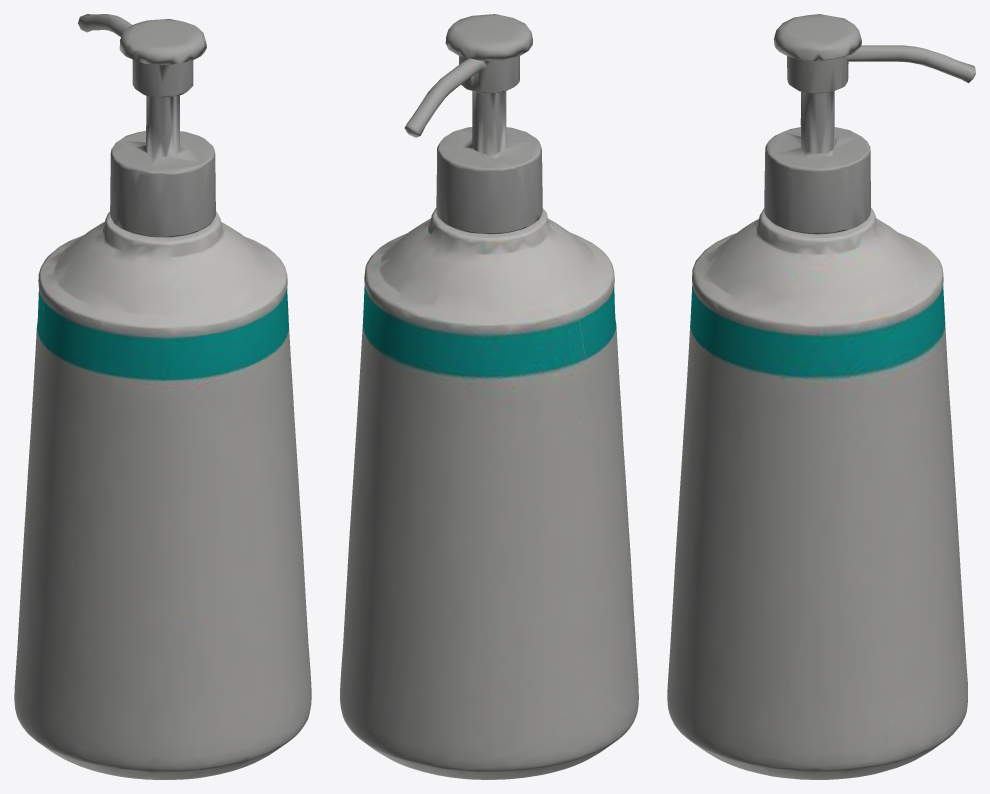
File: dispenser-v2.glb
The picture shows the model from 3 angles, left to right: view 1: azimuth 30°, elevation 25°; view 2: azimuth 150°, elevation 25°; view 3: azimuth 270°, elevation 25°; orthographic projection.
Parts seen in each view (by area): view 1: prop__dispenser; view 2: prop__dispenser; view 3: prop__dispenser.
Part boxes in pixels (left/top/right/bottom): prop__dispenser: left=14, top=14, right=311, bottom=779; prop__dispenser: left=340, top=14, right=638, bottom=779; prop__dispenser: left=667, top=14, right=975, bottom=779.
Size of the model in its own units: 0.1008 by 0.26 by 0.1039.
1 material, 1 textured.
